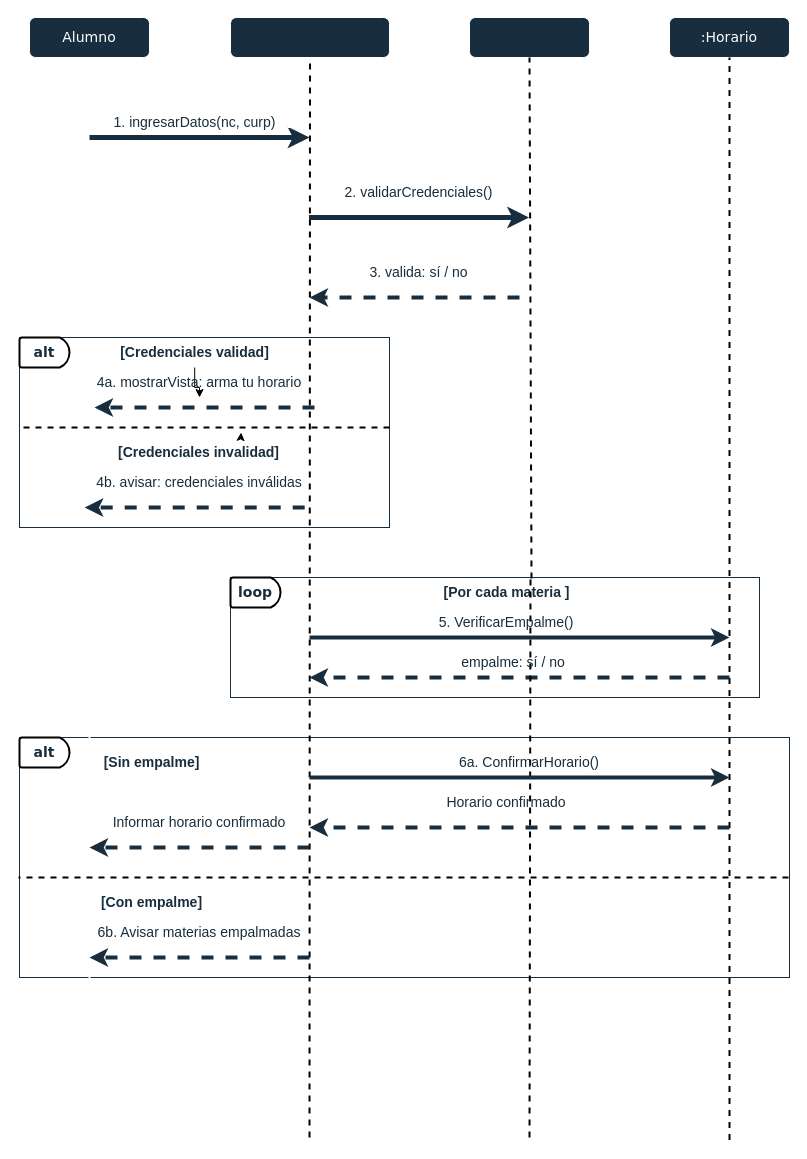
Image size: 807x1159. Some labels were removed from this diagram. Here are the shapes that lost their labels. From the top down, the box of each, then its label:
(230, 16, 390, 58): :InterfazInscripcion
(468, 16, 590, 58): :Alumno
